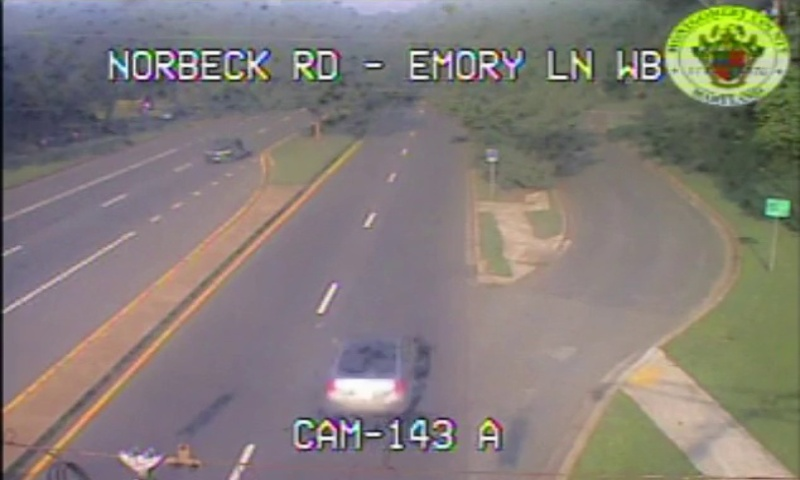car: (326, 335, 418, 414)
